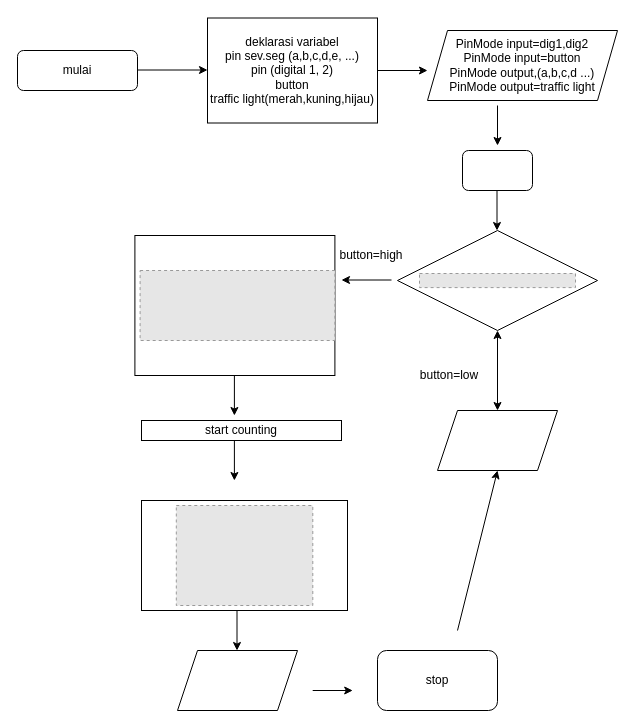
This 635x728 diagram has some shape labels left out. Grey dashed boxes stand in for pictures. Here are the shapes that lost their labels. From the top down, the centre of each, then its label:
At pixel 497 170: "start loop".
At pixel 497 440: "output hijau kedip".
At pixel 237 680: "output 20-0".
